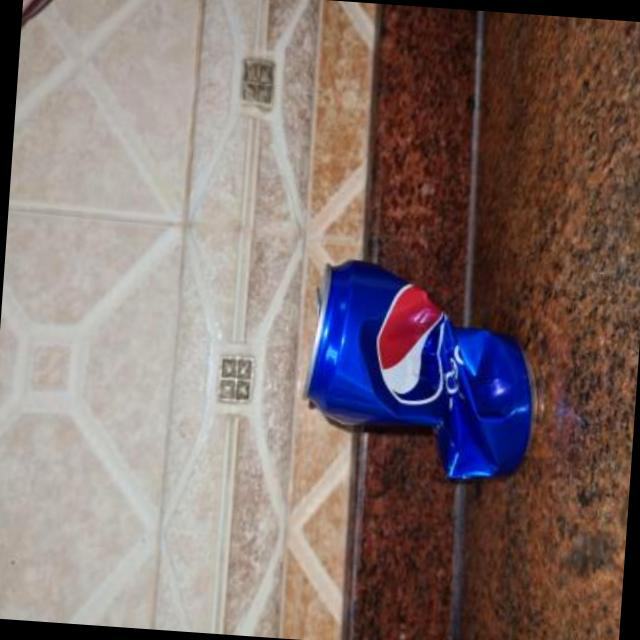metal: (302, 259, 528, 476)
